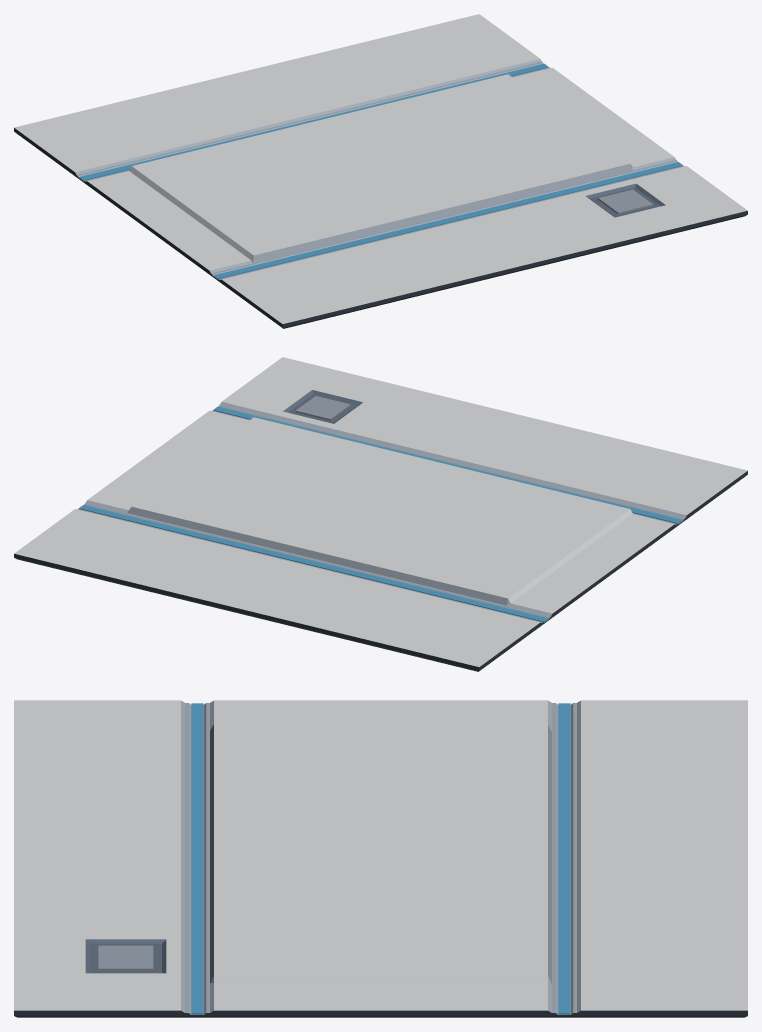
File: composite-plaza-tile-618067.glb
3 views of the same model, one above another, from view 1: azimuth 30°, elevation 25°; view 2: azimuth 150°, elevation 25°; view 3: azimuth 270°, elevation 25° (orthographic). The views are drawn at different scales.
Visible parts, largest first — view 1: composite-plaza-tile-deck; view 2: composite-plaza-tile-deck; view 3: composite-plaza-tile-deck.
Boxes of the visible parts, box(x1,y1,x2,y2) form: composite-plaza-tile-deck: box(14, 14, 747, 328); composite-plaza-tile-deck: box(14, 357, 747, 671); composite-plaza-tile-deck: box(14, 700, 747, 1017).
Bounding box in the file's own units: 4 × 0.085 × 4.
